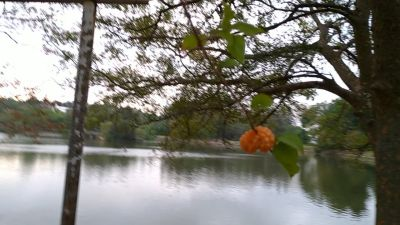eggs: (238, 123, 277, 153)
